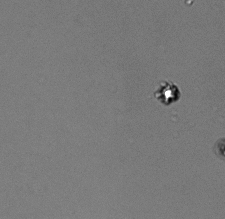Living Cell: (157, 83, 178, 104)
